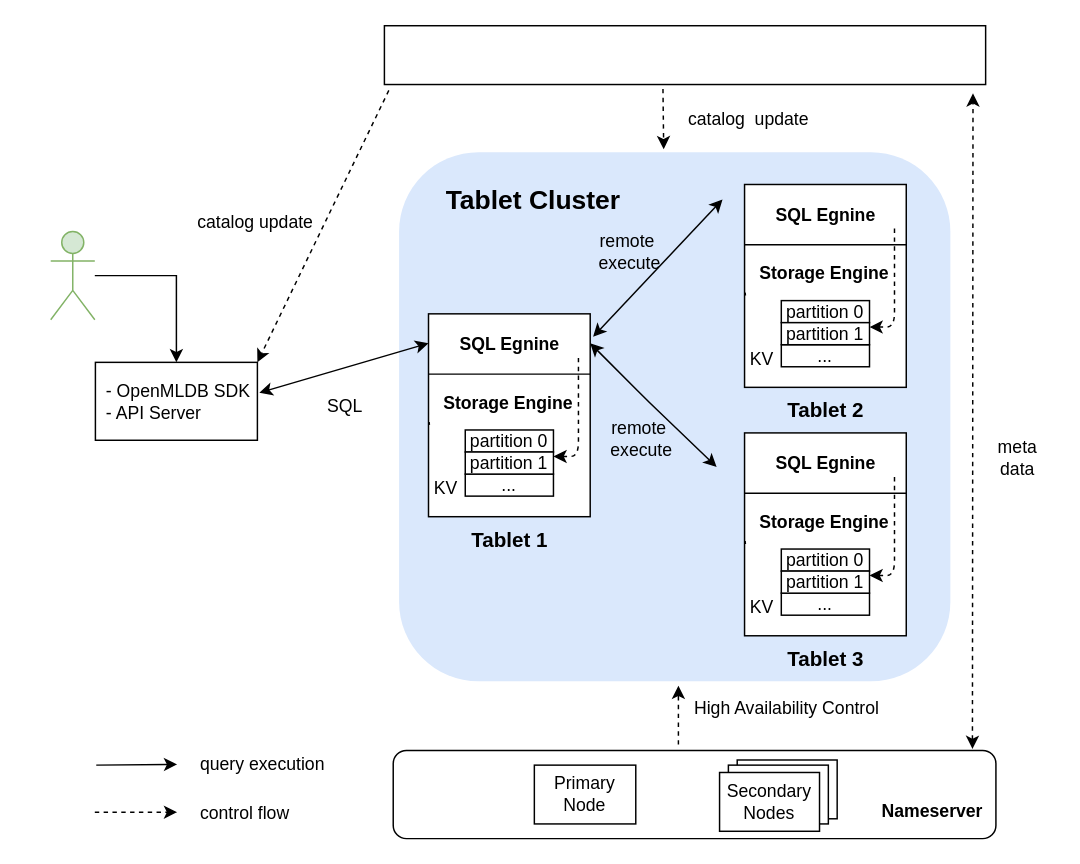
Image size: 1080x864. Some labels were removed from this diagram. Here are the shapes that lost their labels. From the top down, the centre of each, then its label:
At (684,54): "Apache ZooKeeper".
At (72,275): "Applications".
